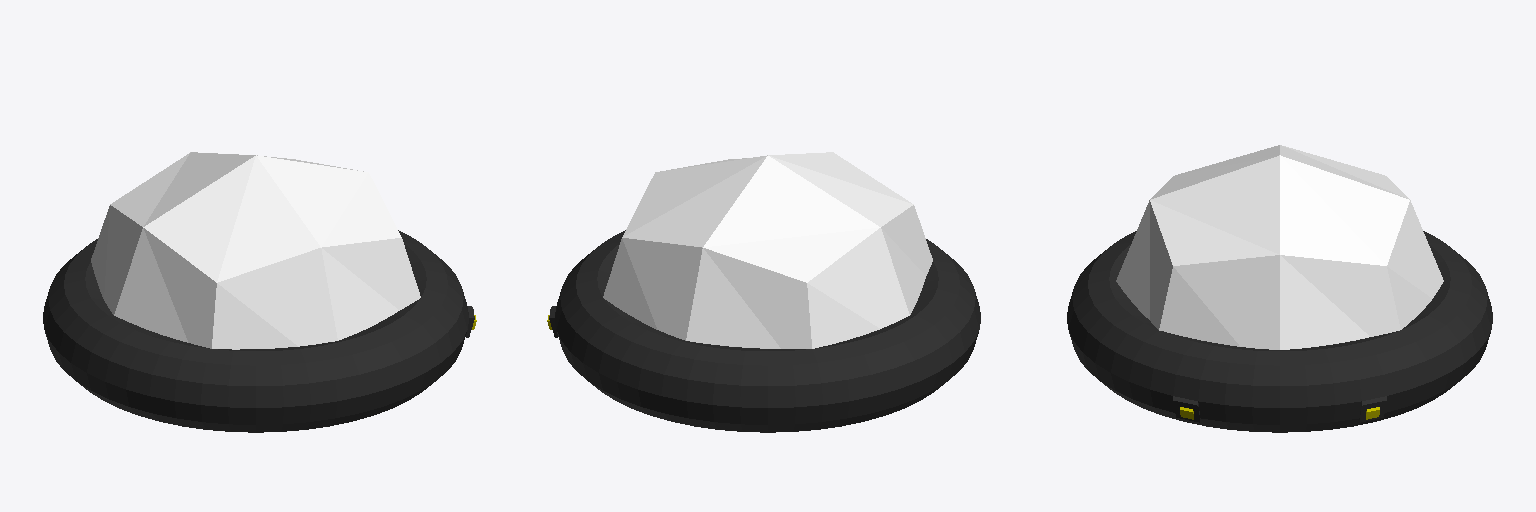
The model's file is UFO.obj.
The picture shows the model from 3 angles: view 1: azimuth 30°, elevation 25°; view 2: azimuth 150°, elevation 25°; view 3: azimuth 270°, elevation 25°; orthographic projection.
Visible parts, largest first — view 1: Cube, Torus; view 2: Cube, Torus; view 3: Cube, Torus.
Boxes of the visible parts, x1,y1,x2,y2 form: Cube: [91, 152, 420, 349]; Torus: [43, 230, 474, 432]; Cube: [603, 152, 932, 348]; Torus: [549, 230, 980, 432]; Cube: [1116, 145, 1443, 349]; Torus: [1067, 231, 1492, 432].
Size of the model in its own units: 5.25 by 2.73 by 5.25.